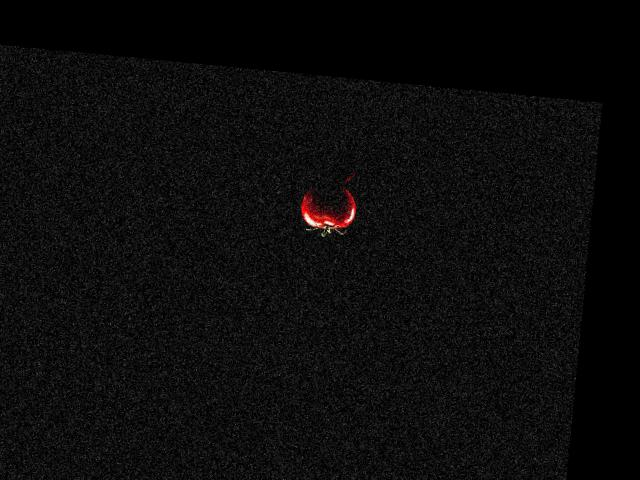tomato: (298, 183, 357, 232)
